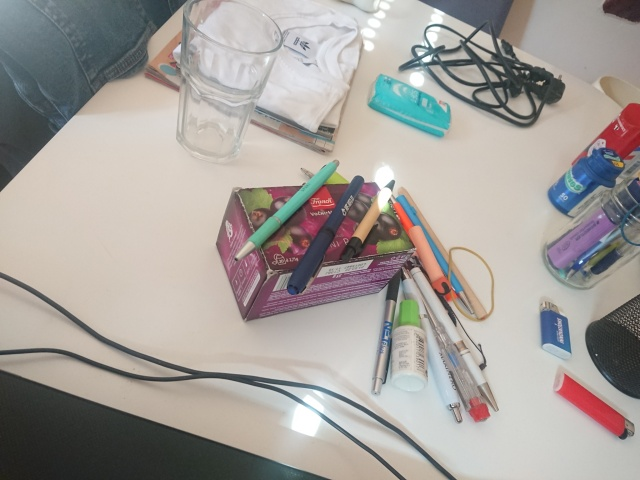Franck Black Currant Tea 60g: (213, 180, 419, 324)
